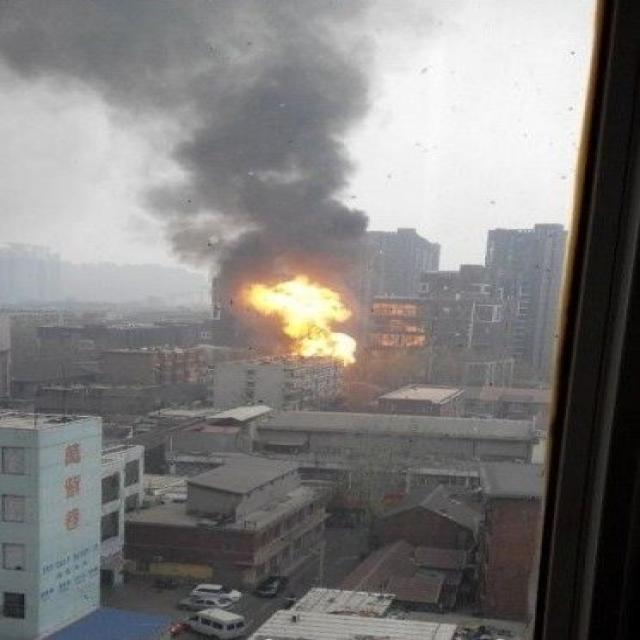fire: (241, 275, 356, 361)
smoke: (0, 0, 403, 276)
